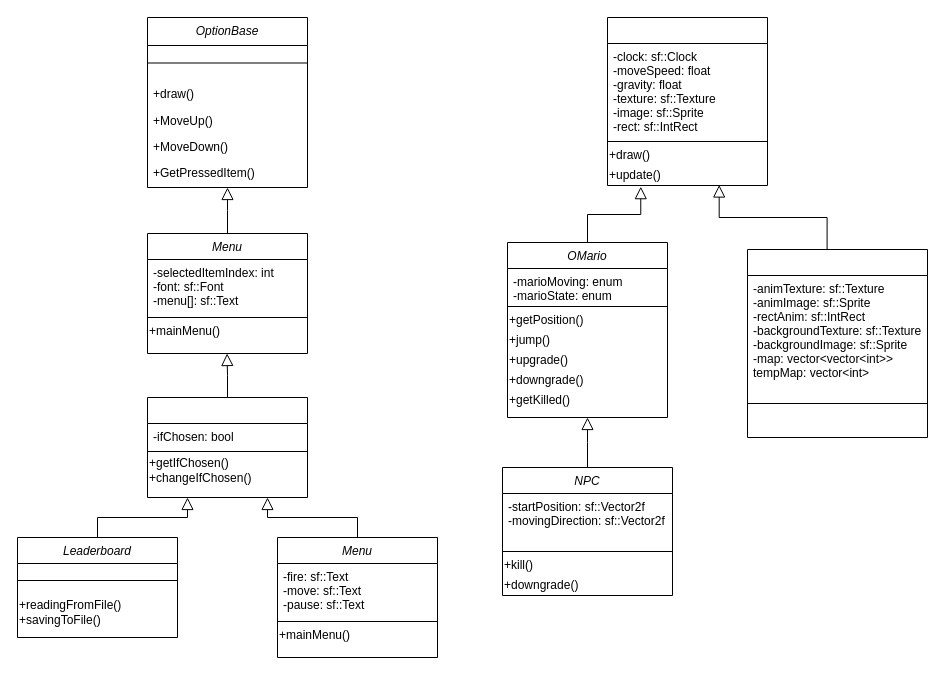
Some shapes in this 945 by 675 pixel diagram are drawn without their labels. Each missing label, with the box of its shape:
GameObject: (606, 16, 768, 186)
Options: (146, 396, 308, 498)
TileMap: (746, 248, 928, 438)
